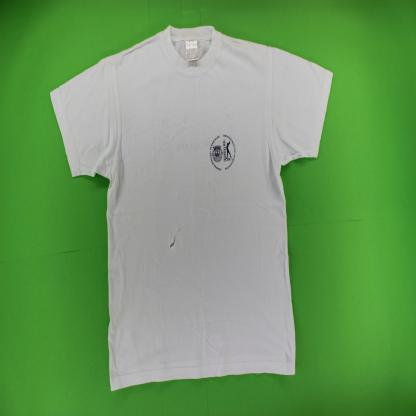hole: (168, 228, 181, 249)
